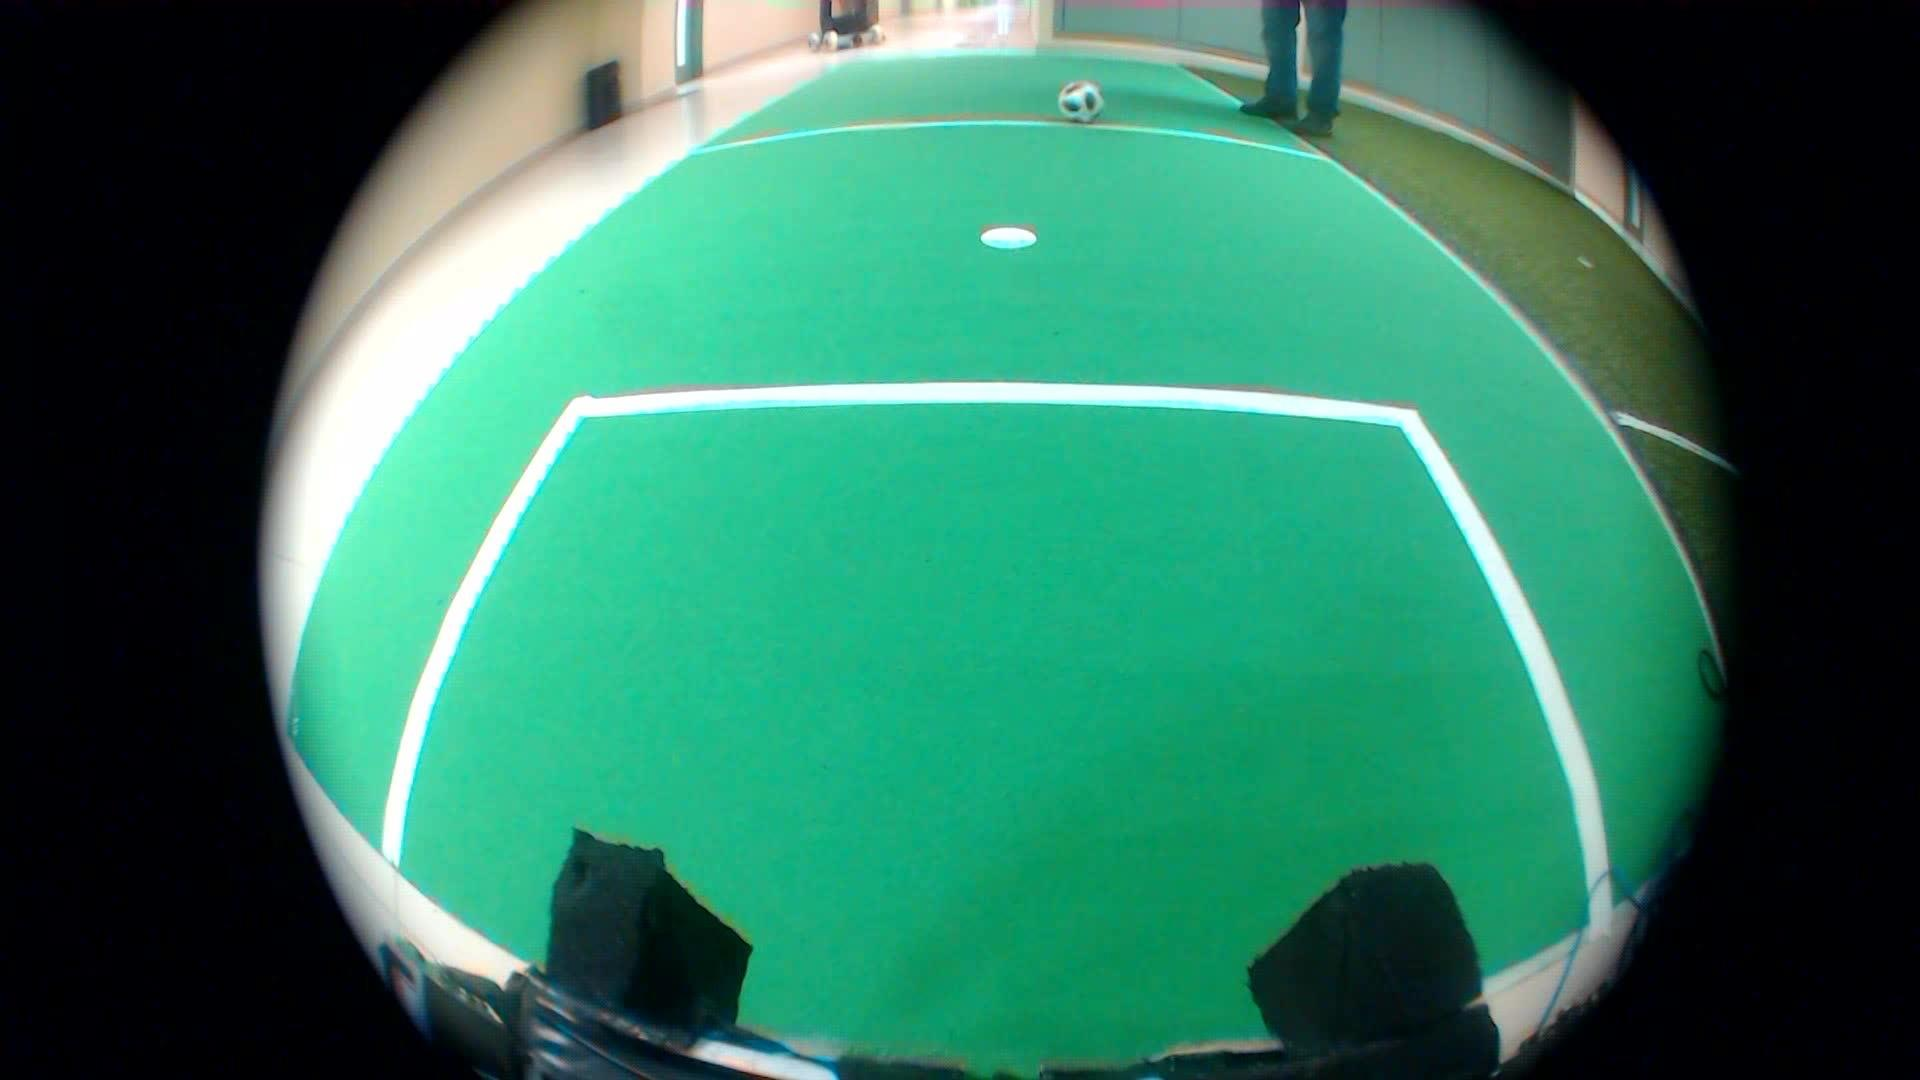ball: (1054, 67, 1102, 127)
